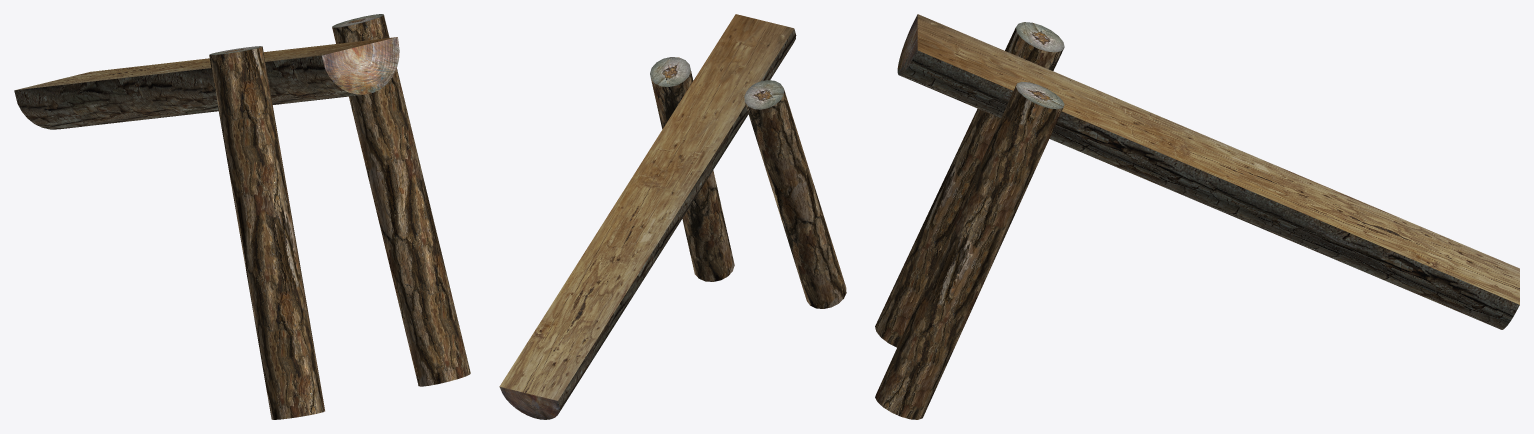
Rendered from cannon_log.fbx.
3 views of the same model, side by side, from view 1: azimuth 30°, elevation 25°; view 2: azimuth 150°, elevation 25°; view 3: azimuth 270°, elevation 25° (orthographic). The views are drawn at different scales.
Parts seen in each view (by area): view 1: cannon_log; view 2: cannon_log; view 3: cannon_log.
Boxes of the visible parts, x1,y1,x2,y2 form: cannon_log: (14, 14, 470, 419); cannon_log: (499, 14, 846, 419); cannon_log: (875, 14, 1519, 419).
Size of the model in its own units: 394 by 692 by 1165.
